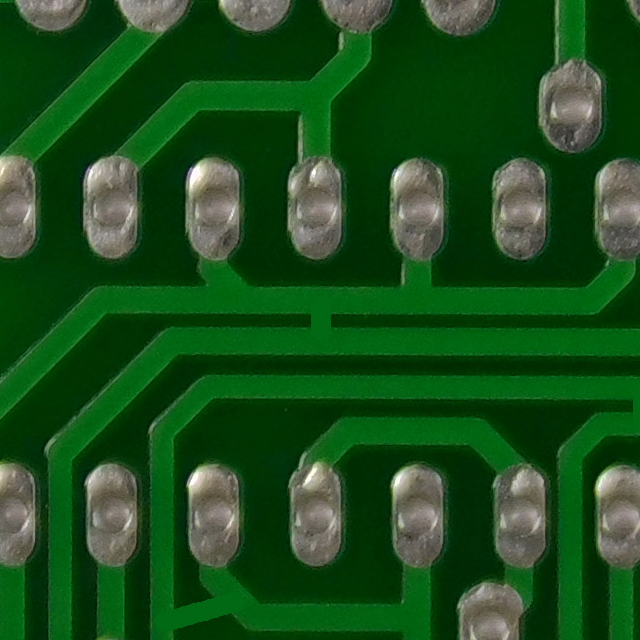short: (137, 576, 263, 640), (290, 274, 350, 366), (606, 371, 640, 449)
